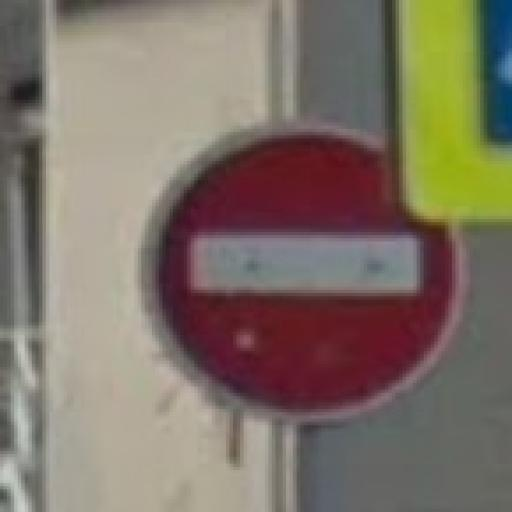traffic_sign: (139, 123, 471, 423)
